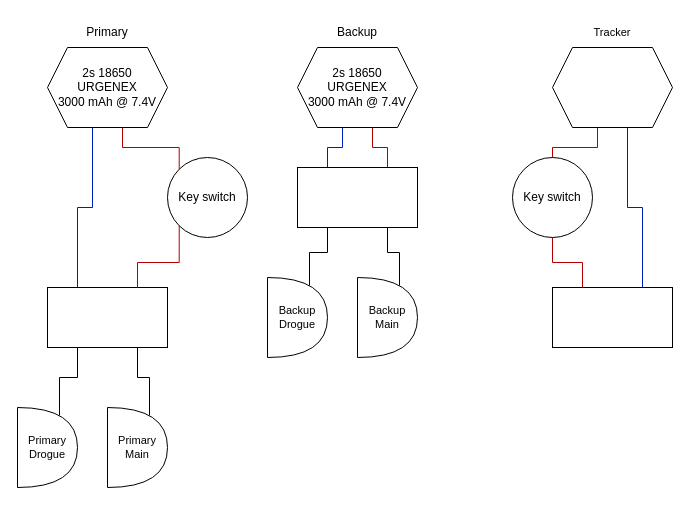
This 690x505 diagram has some shape labels left out. The centre of each missing label's shape, as x and y in pixels:
"1s 18650 (MFG TBD) @ 3.7V" belongs at pixel 612 87.
"Bluejay 2" belongs at pixel 357 197.
"Featherweight GPS Tracker" belongs at pixel 612 317.
"RRC3+" belongs at pixel 107 317.
